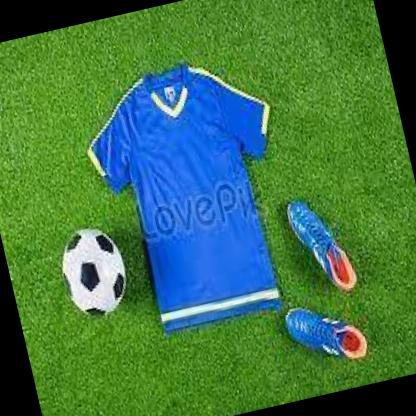ball: (55, 222, 135, 322)
